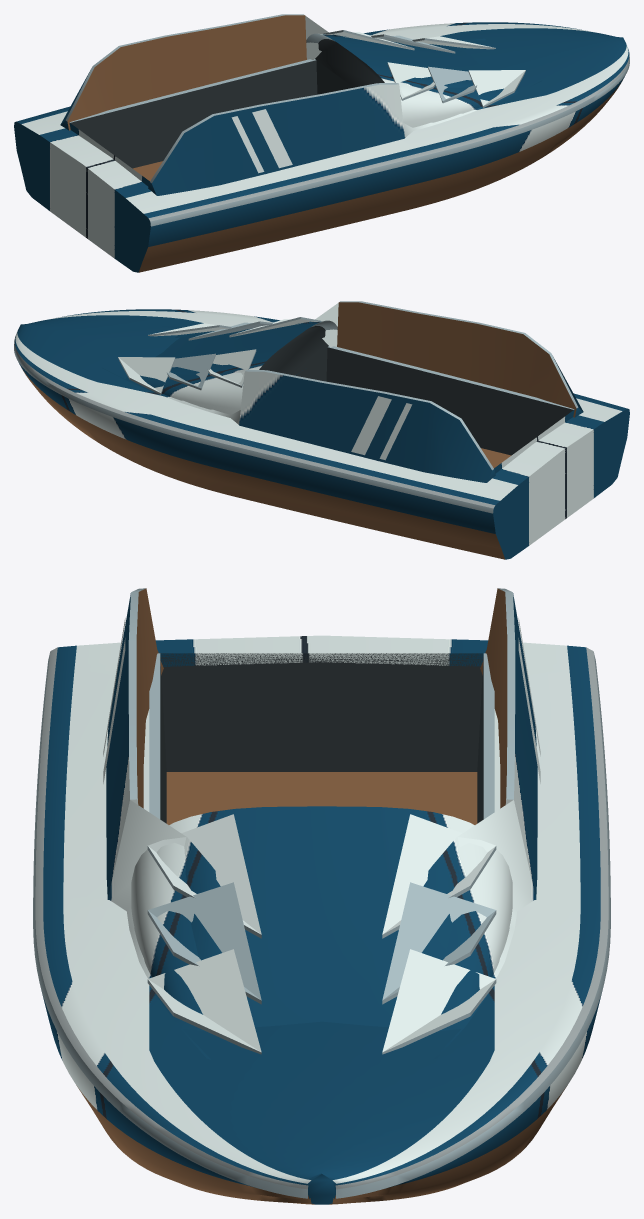
Rendered from Hull_22_SR_外海・二重線.glb.
The picture shows the model from 3 angles, top to bottom: view 1: azimuth 30°, elevation 25°; view 2: azimuth 150°, elevation 25°; view 3: azimuth 270°, elevation 25°; orthographic projection. The views are drawn at different scales.
Parts seen in each view (by area): view 1: Hull_22_SR; view 2: Hull_22_SR; view 3: Hull_22_SR.
Boxes of the visible parts, <box> form: Hull_22_SR: <box>14,14,629,272</box>; Hull_22_SR: <box>14,301,629,559</box>; Hull_22_SR: <box>33,588,610,1204</box>.
Bounding box in the file's own units: 2.9 × 0.6856 × 1.34.
Materials: 4 (4 with a texture image).
